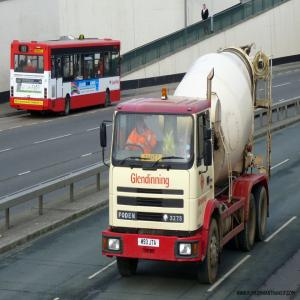Vehicle-registration-plate: (138, 240, 160, 246)
